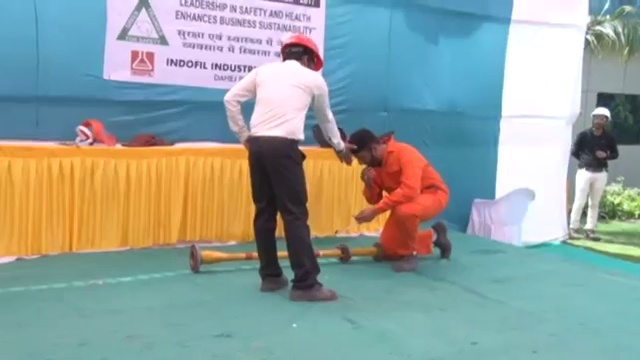helmet: (277, 34, 324, 70), (589, 107, 613, 123)
helmet_off: (348, 129, 385, 167)
helmet_on: (276, 34, 326, 76), (588, 107, 613, 136)
person: (219, 34, 354, 303), (346, 127, 453, 273), (571, 107, 619, 244)
